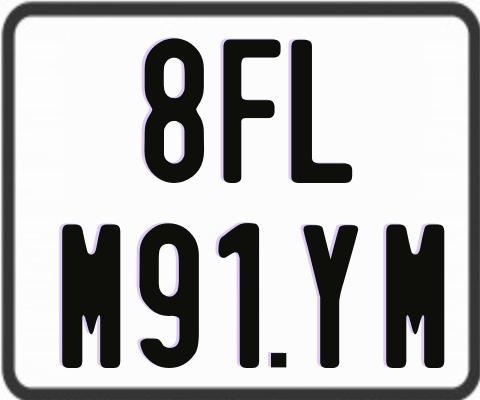1: (215, 220, 260, 368)
8: (144, 35, 206, 184)
9: (139, 222, 199, 370)
F: (223, 39, 286, 188)
L: (289, 39, 356, 183)
M: (384, 221, 446, 368), (61, 223, 120, 373)
Y: (303, 225, 364, 371)
